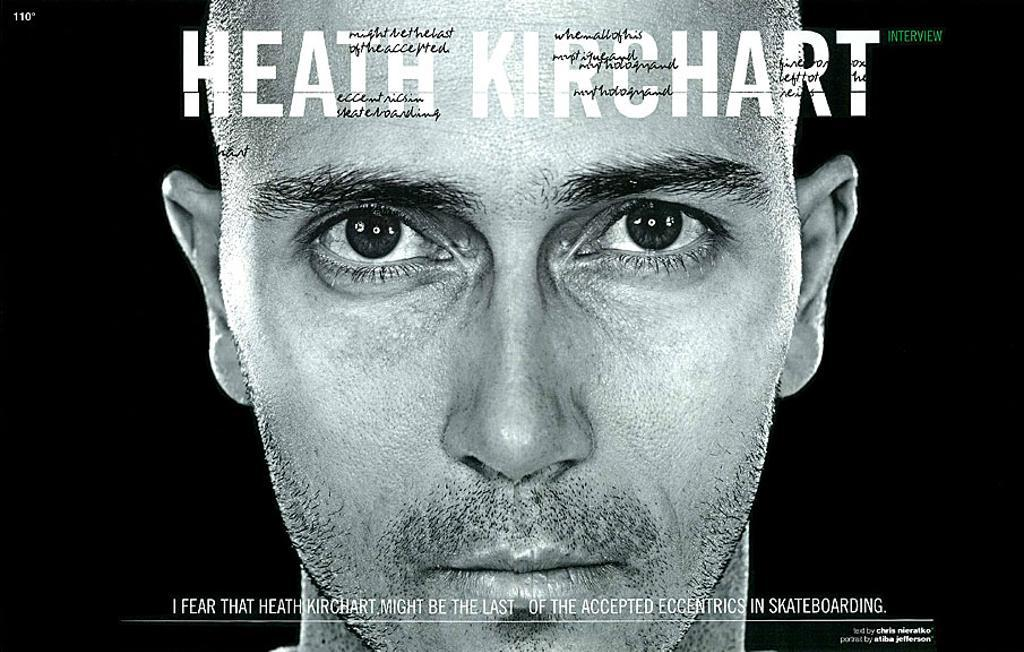face: (221, 7, 797, 652)
